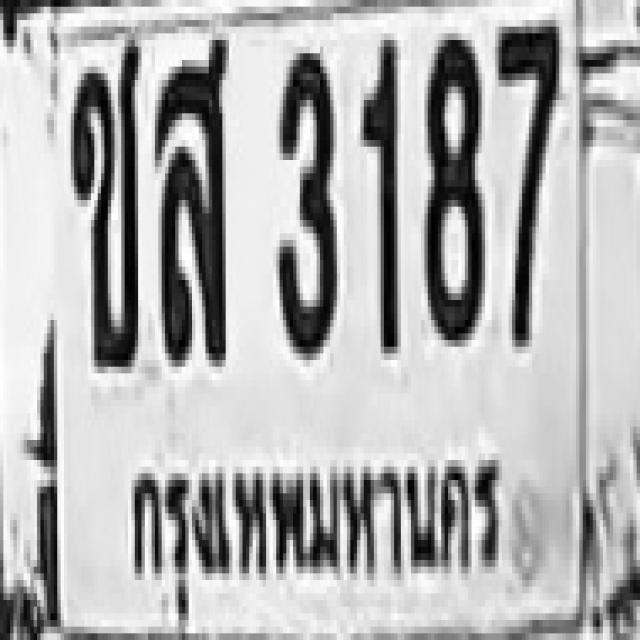-: (152, 30, 226, 357), (67, 30, 138, 363)
1: (359, 33, 396, 347)
3: (273, 47, 333, 353)
7: (495, 13, 559, 340)
8: (421, 33, 482, 340)
NPT: (118, 436, 511, 630)
